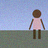person: (29, 9, 45, 39)
